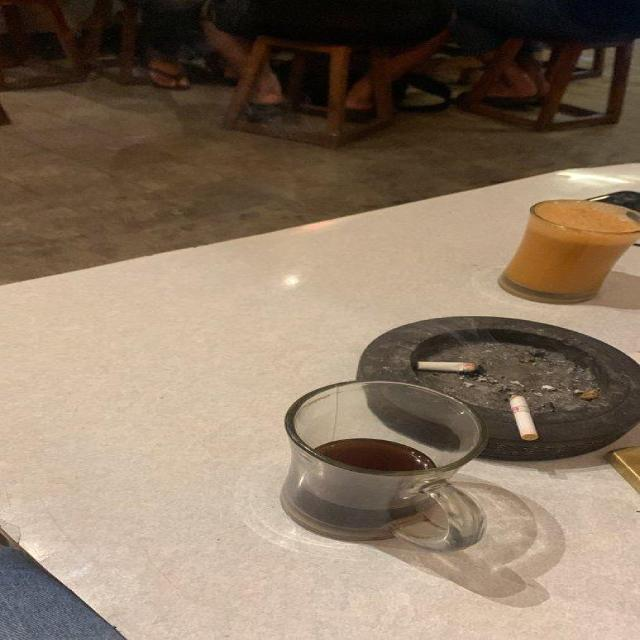rokok: (500, 390, 548, 448), (406, 352, 494, 380)
